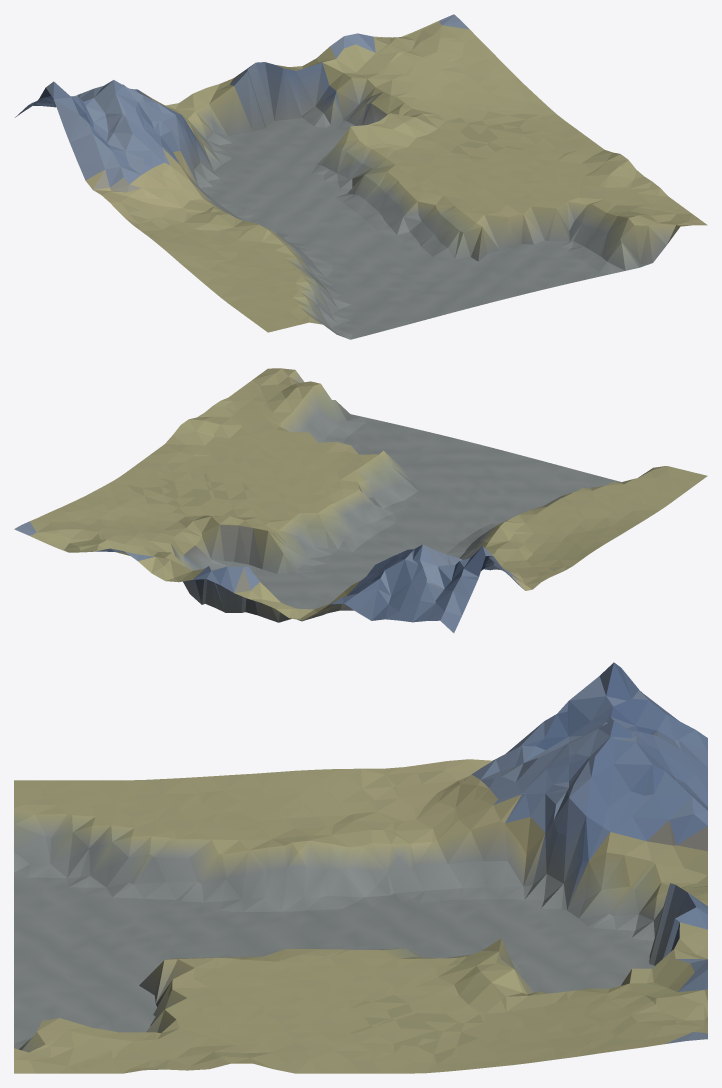
The model's file is Ground_1_-3_lake48.glb.
3 renders of one model, top to bottom at view 1: azimuth 30°, elevation 25°; view 2: azimuth 150°, elevation 25°; view 3: azimuth 270°, elevation 25°, orthographic. The views are drawn at different scales.
Visible parts, largest first — view 1: Ground_1_-3; view 2: Ground_1_-3; view 3: Ground_1_-3.
Part boxes in pixels (box(x1,y1,x2,y2)): Ground_1_-3: box(15, 14, 707, 339); Ground_1_-3: box(14, 368, 707, 632); Ground_1_-3: box(14, 662, 707, 1073).
Bounding box in the file's own units: 768 × 195 × 768.
